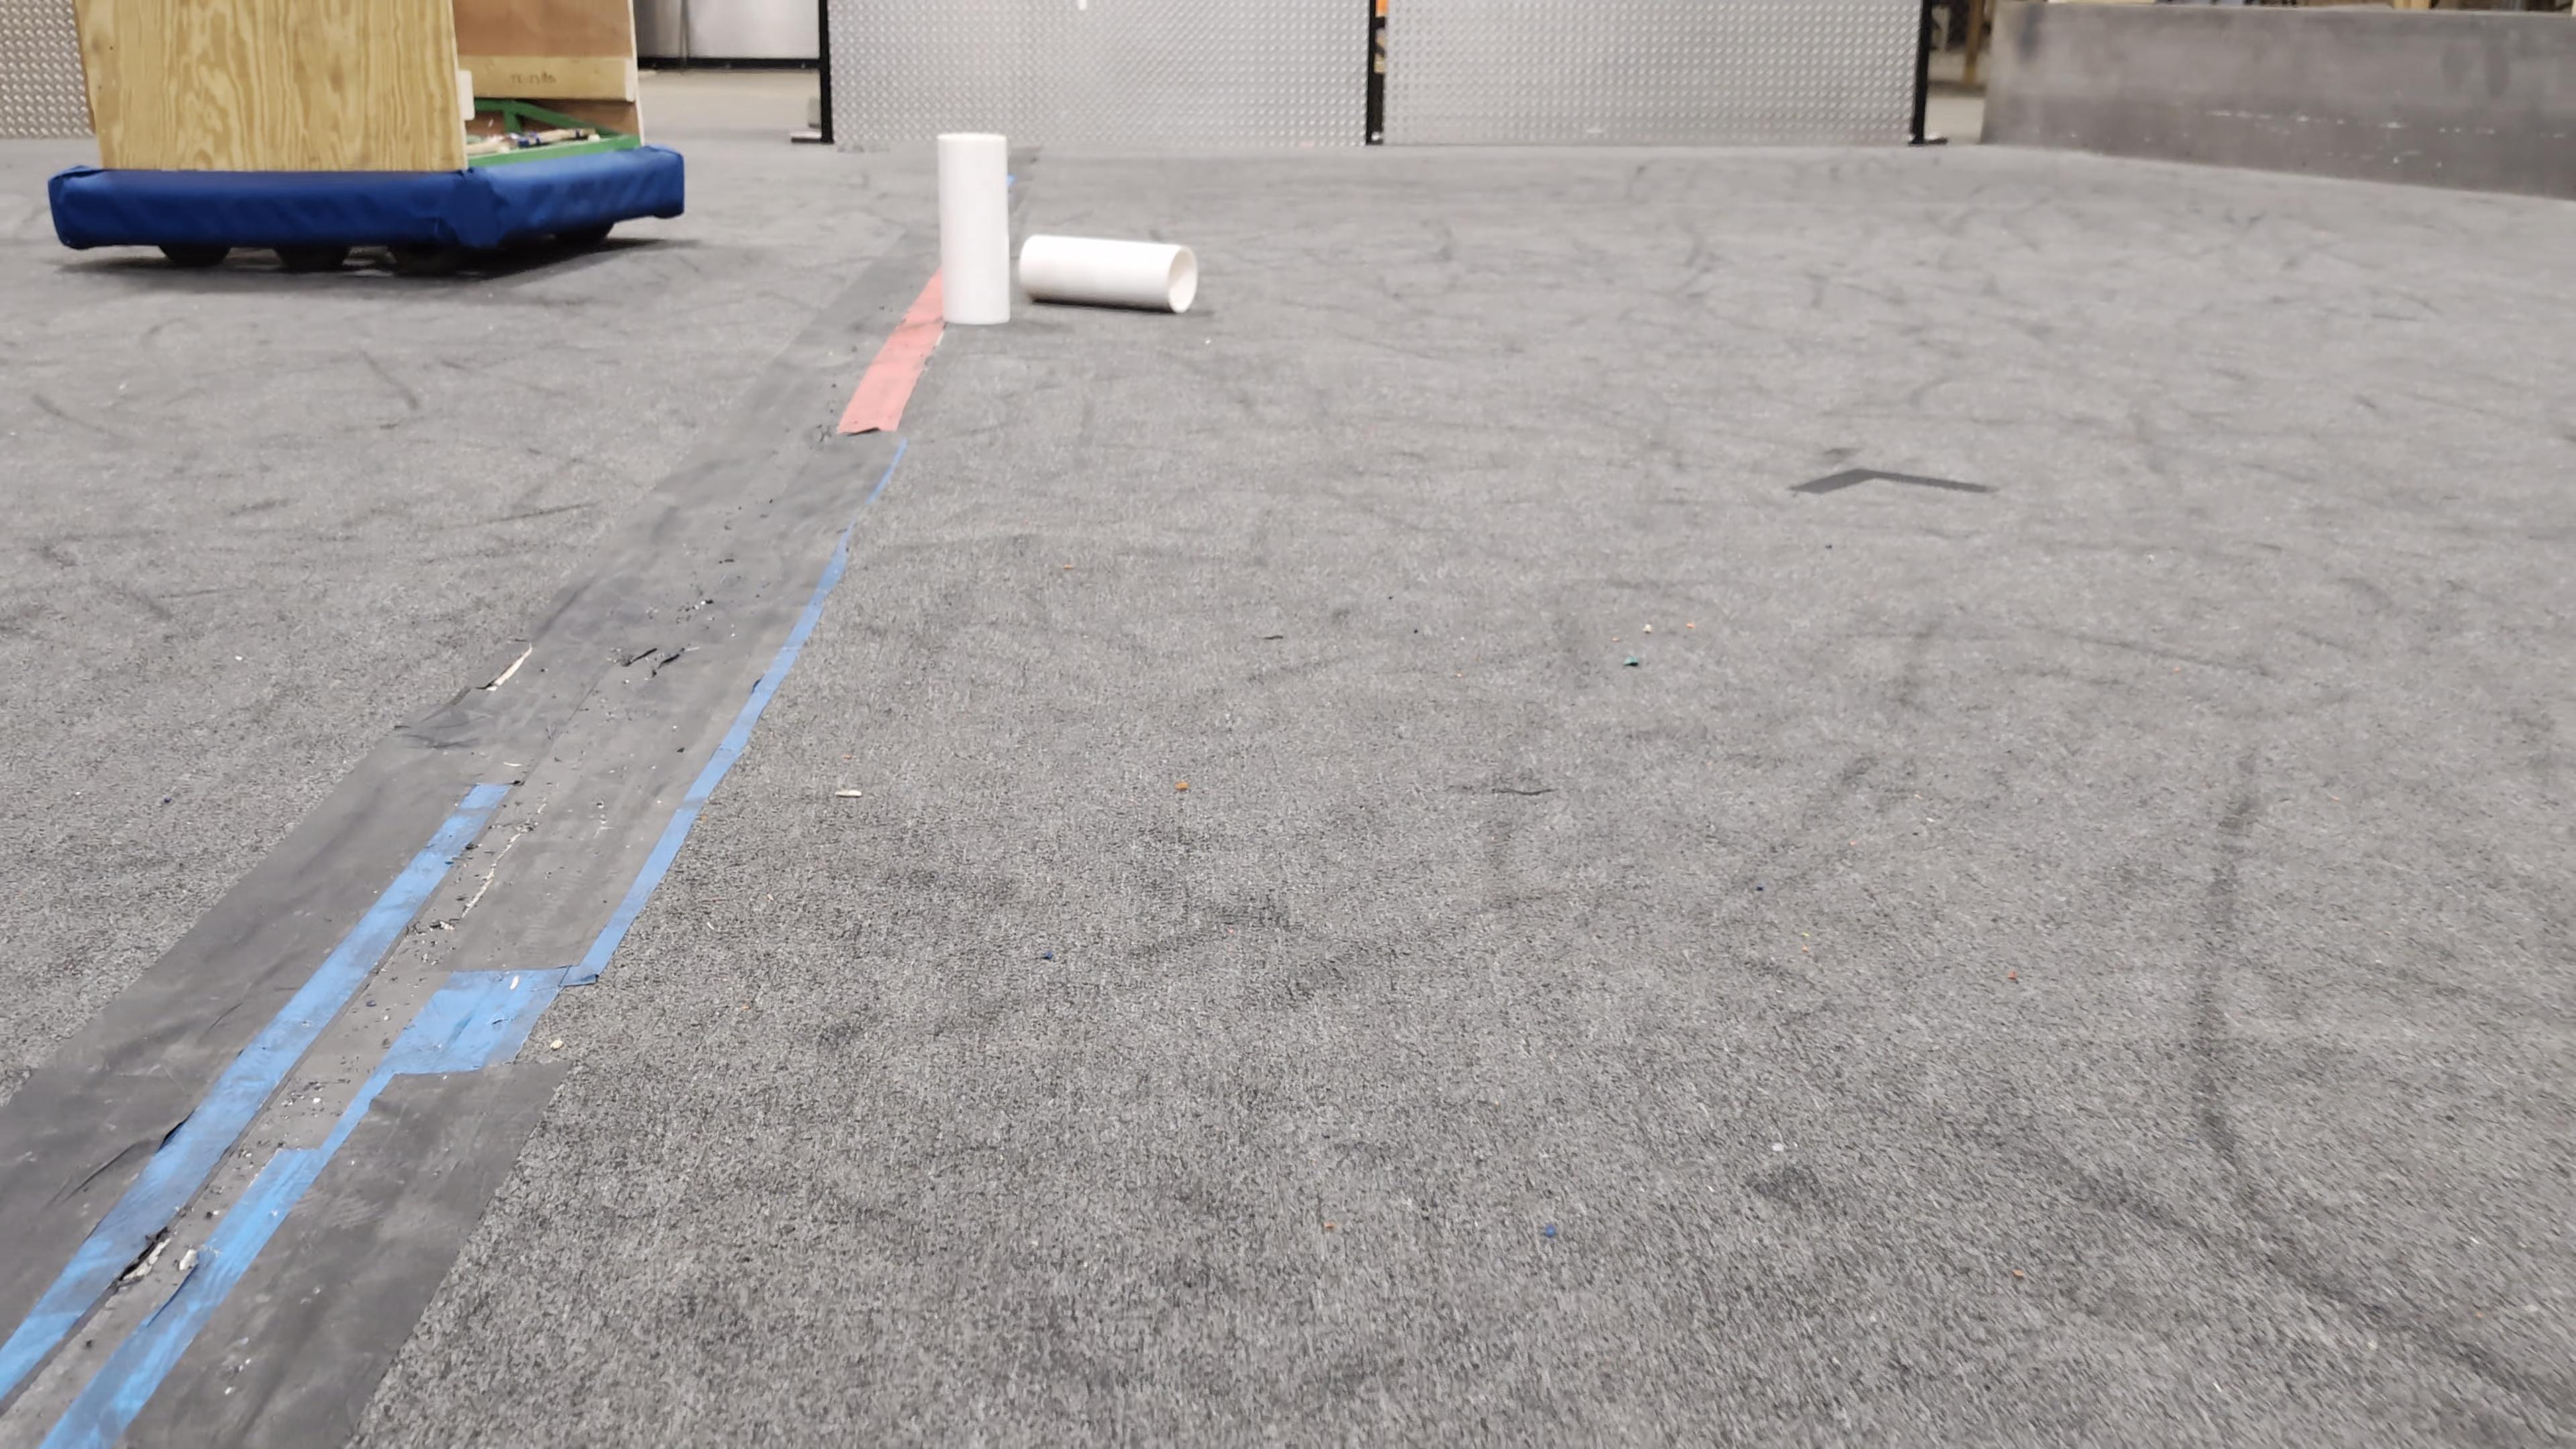coral: (1016, 230, 1200, 310), (941, 131, 1008, 324)
